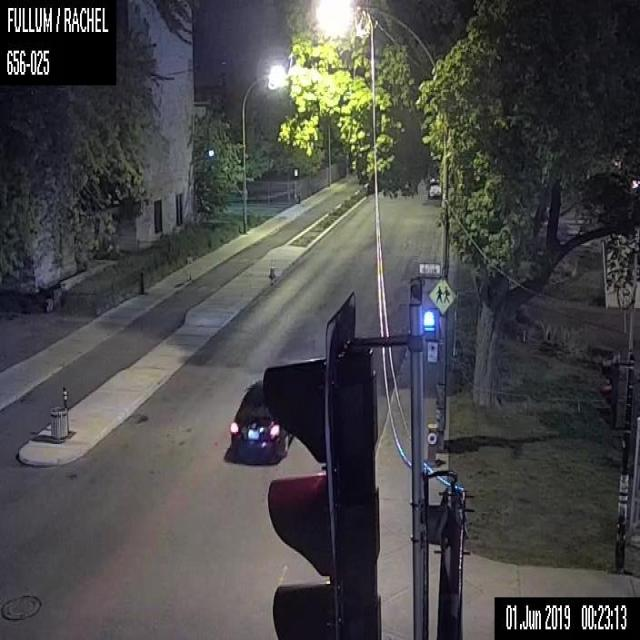vehicle: (229, 379, 293, 464), (428, 178, 440, 196)
